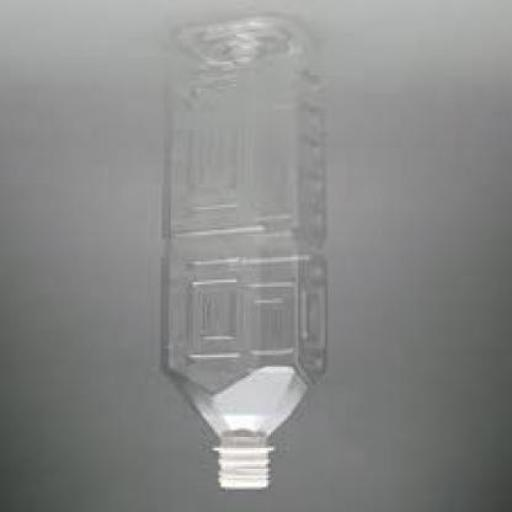plastic: (152, 16, 328, 491)
